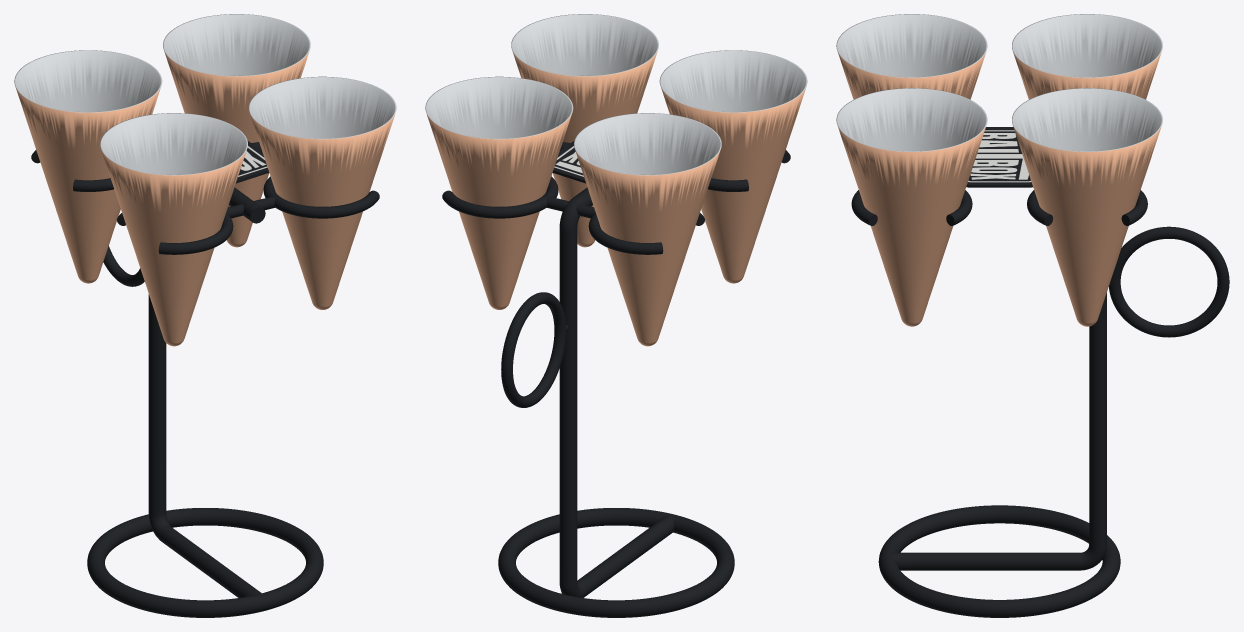
The model's file is strutstall.glb.
The picture shows the model from 3 angles, left to right: view 1: azimuth 30°, elevation 25°; view 2: azimuth 150°, elevation 25°; view 3: azimuth 270°, elevation 25°; orthographic projection. The views are drawn at different scales.
Visible parts, largest first — view 1: cups_1, cups_2, cups_3, cups_4, frame_1, frame_3, frame_6, frame_5, frame_2, badge_1, frame_8; view 2: cups_3, cups_4, cups_1, cups_2, frame_3, frame_1, frame_2, frame_9, frame_8, frame_5, badge_1; view 3: cups_2, cups_4, cups_1, cups_3, frame_1, frame_3, frame_2, badge_2, badge_1, frame_6, frame_9.
Part boxes in pixels (left/top/right/bottom): cups_1: left=100, top=113, right=247, bottom=346; cups_2: left=248, top=76, right=396, bottom=309; cups_3: left=14, top=50, right=162, bottom=283; cups_4: left=163, top=14, right=310, bottom=247; frame_1: left=87, top=508, right=323, bottom=617; frame_3: left=148, top=187, right=265, bottom=597; frame_6: left=263, top=176, right=379, bottom=218; frame_5: left=117, top=212, right=233, bottom=254; frame_2: left=103, top=246, right=144, bottom=286; badge_1: left=236, top=141, right=269, bottom=183; frame_8: left=31, top=150, right=113, bottom=191; cups_3: left=574, top=113, right=721, bottom=346; cups_4: left=425, top=76, right=573, bottom=309; cups_1: left=659, top=50, right=807, bottom=283; cups_2: left=511, top=14, right=658, bottom=247; frame_3: left=559, top=187, right=674, bottom=597; frame_1: left=498, top=508, right=734, bottom=617; frame_2: left=501, top=292, right=566, bottom=407; frame_9: left=442, top=176, right=558, bottom=218; frame_8: left=588, top=212, right=704, bottom=254; frame_5: left=708, top=150, right=790, bottom=191; badge_1: left=552, top=141, right=585, bottom=183; cups_2: left=836, top=88, right=987, bottom=326; cups_4: left=1012, top=88, right=1162, bottom=326; cups_1: left=836, top=14, right=987, bottom=99; cups_3: left=1012, top=14, right=1162, bottom=99; frame_1: left=878, top=505, right=1120, bottom=617; frame_3: left=889, top=293, right=1106, bottom=570; frame_2: left=1109, top=226, right=1229, bottom=337; badge_2: left=968, top=130, right=1031, bottom=182; badge_1: left=966, top=127, right=1032, bottom=187; frame_6: left=851, top=190, right=972, bottom=225; frame_9: left=1027, top=190, right=1147, bottom=225.
Bounding box in the file's own units: 0.108 × 0.1777 × 0.13.
5 materials, 1 textured.
